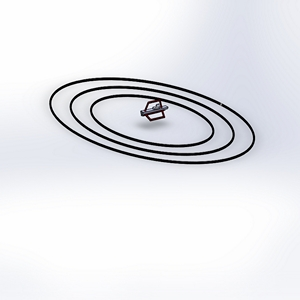circle: (39, 73, 262, 169)
submarine: (138, 94, 171, 128)
